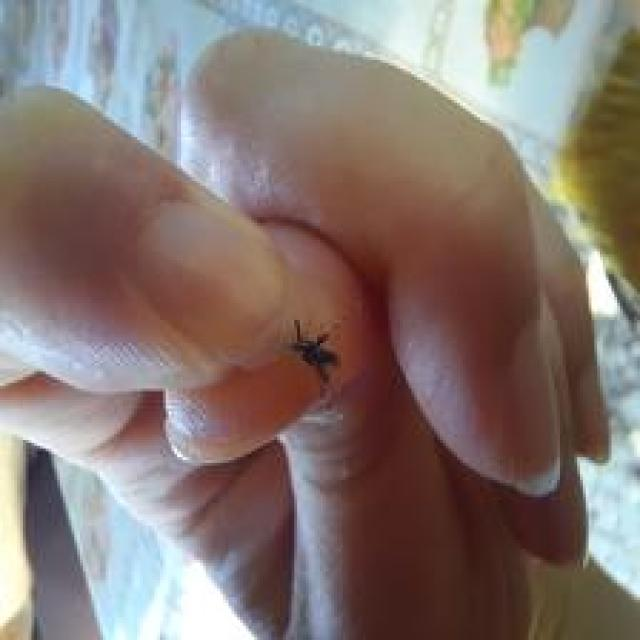Aedes albopictus: (287, 317, 342, 403)
